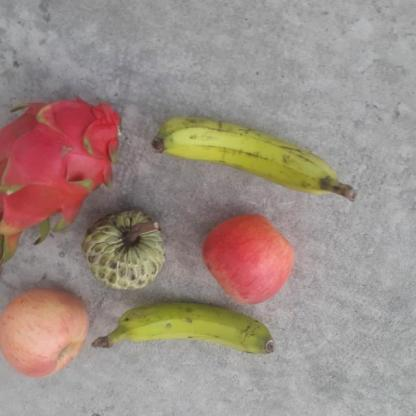annona: (85, 209, 166, 290)
apple: (202, 214, 295, 304), (0, 290, 88, 378)
banana: (154, 118, 360, 204), (90, 300, 277, 356)
pitaya: (1, 100, 121, 292)
